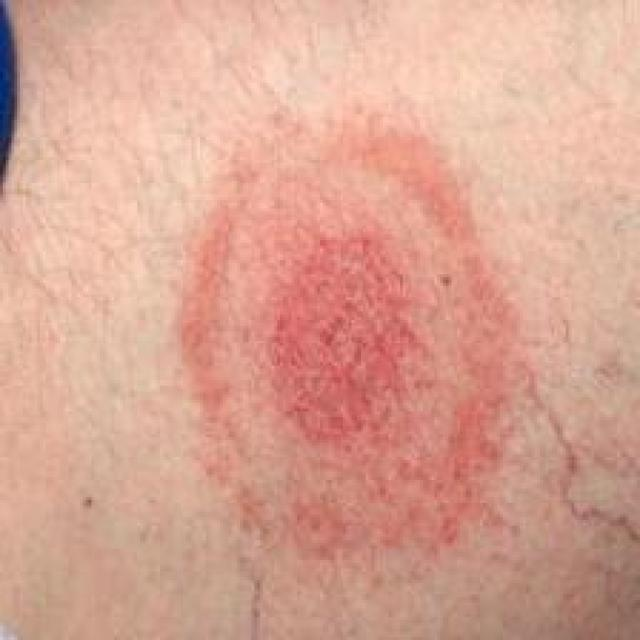kene: (134, 88, 611, 603)
